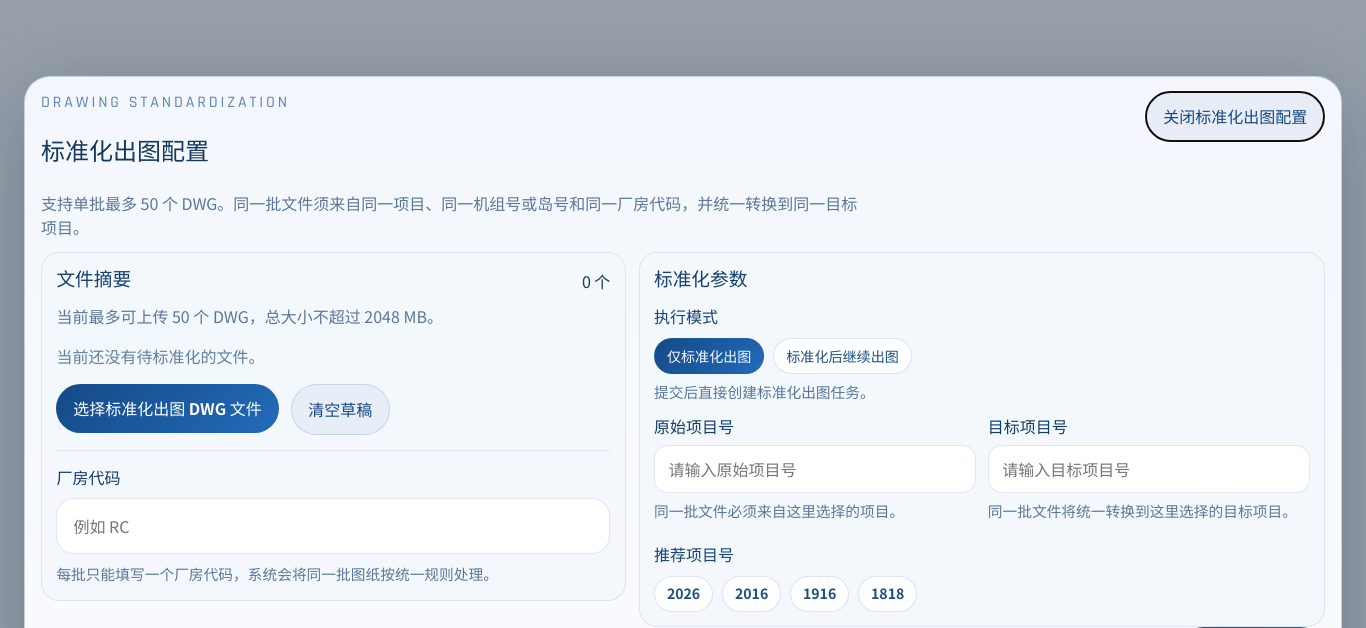
Test: ReplaceWorkspace › uses backend schema for source and target variant selectors
The width and height of the screenshot is (1366, 628).
Type "3000" into the field labelled "原始项目号".
click(815, 469); type("3000")  # box left=654, top=445, right=976, bottom=493
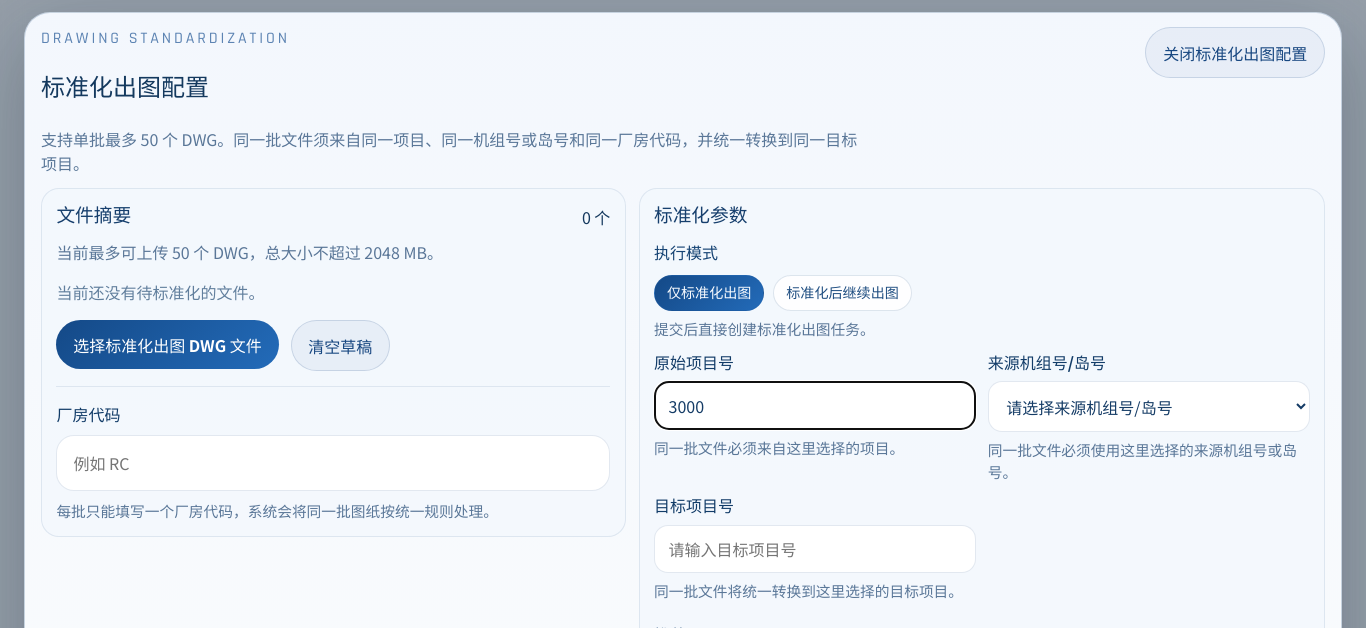
Result: the dropdown labelled "来源机组号/岛号" is shown at left=988, top=381, right=1310, bottom=432
Type "4000" into the field labelled "目标项目号".
click(815, 549); type("4000")  # box left=654, top=525, right=976, bottom=573
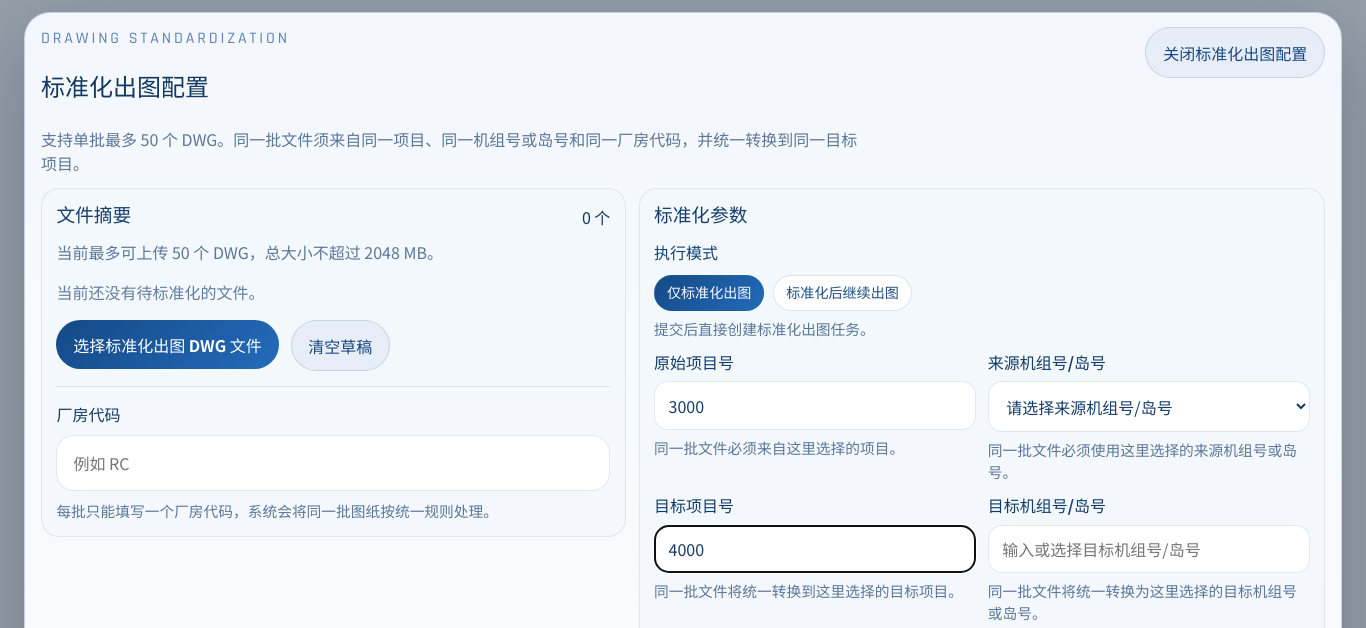
Result: the field labelled "目标机组号/岛号" is shown at left=988, top=525, right=1310, bottom=573
